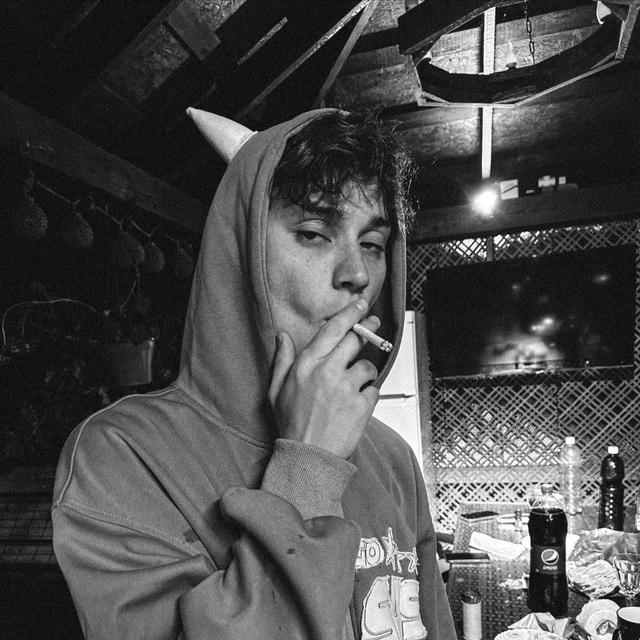cigarette: (351, 322, 393, 353)
